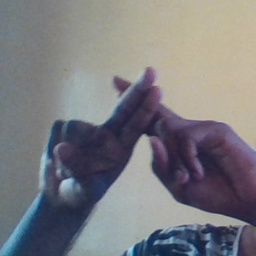F: (72, 59, 218, 180)
